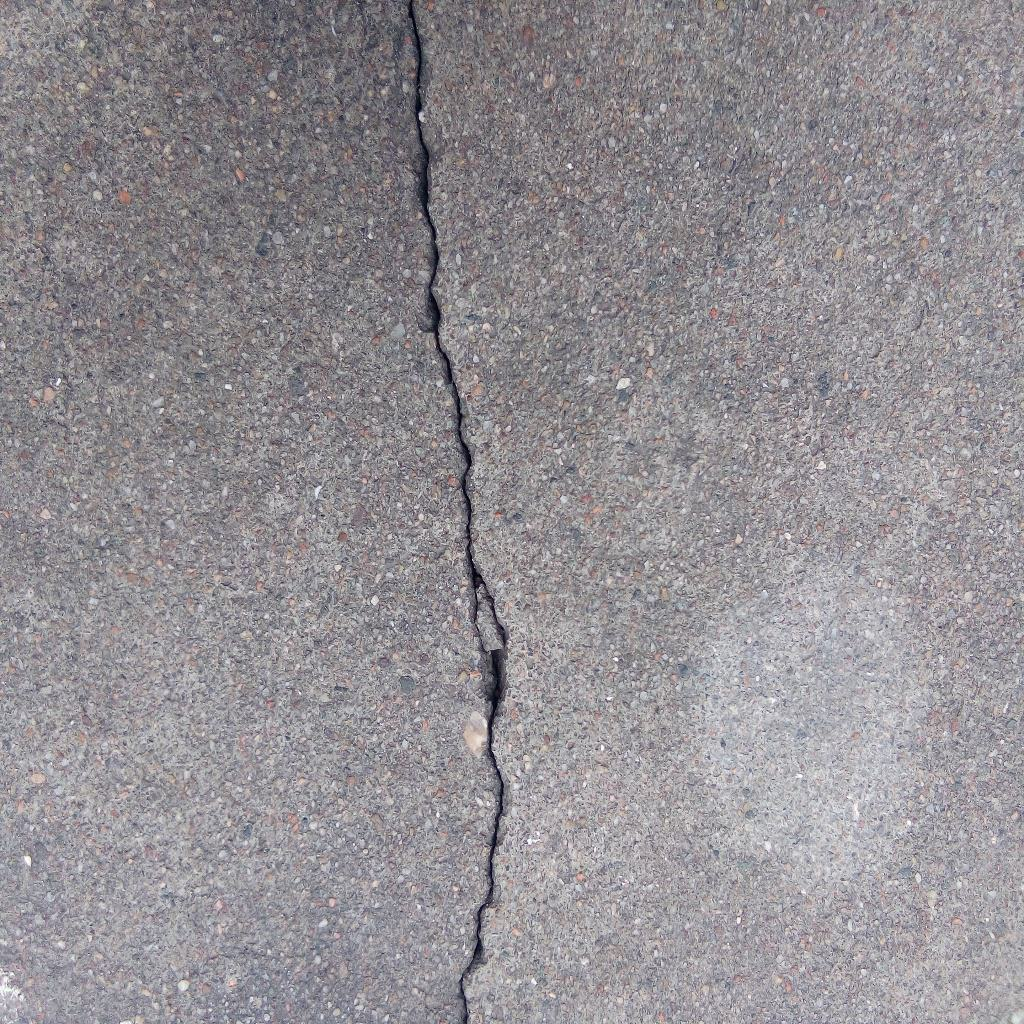Crack: (403, 1, 509, 1024)
